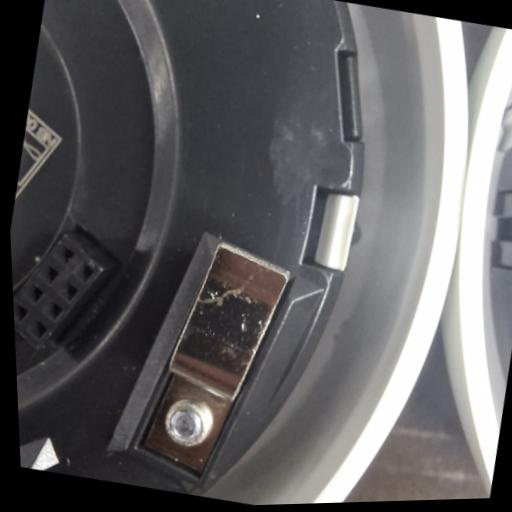yaysiz: (126, 225, 305, 487)
